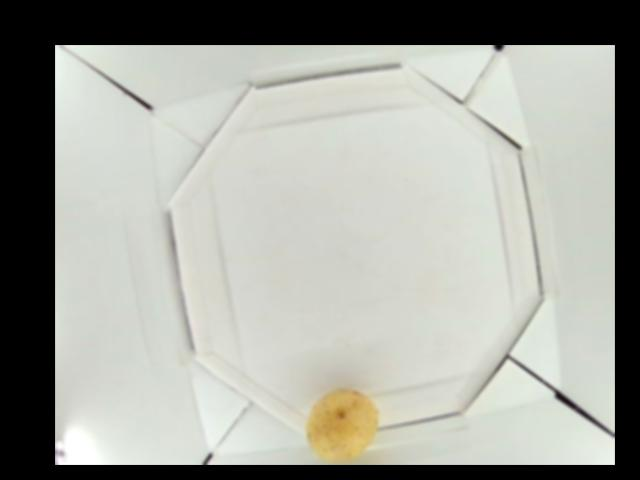Potato: (307, 387, 376, 464)
